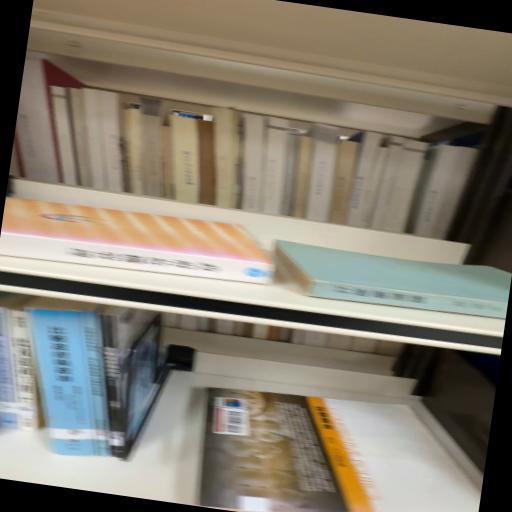flat: (198, 389, 482, 512), (1, 198, 276, 285), (275, 242, 512, 320)
